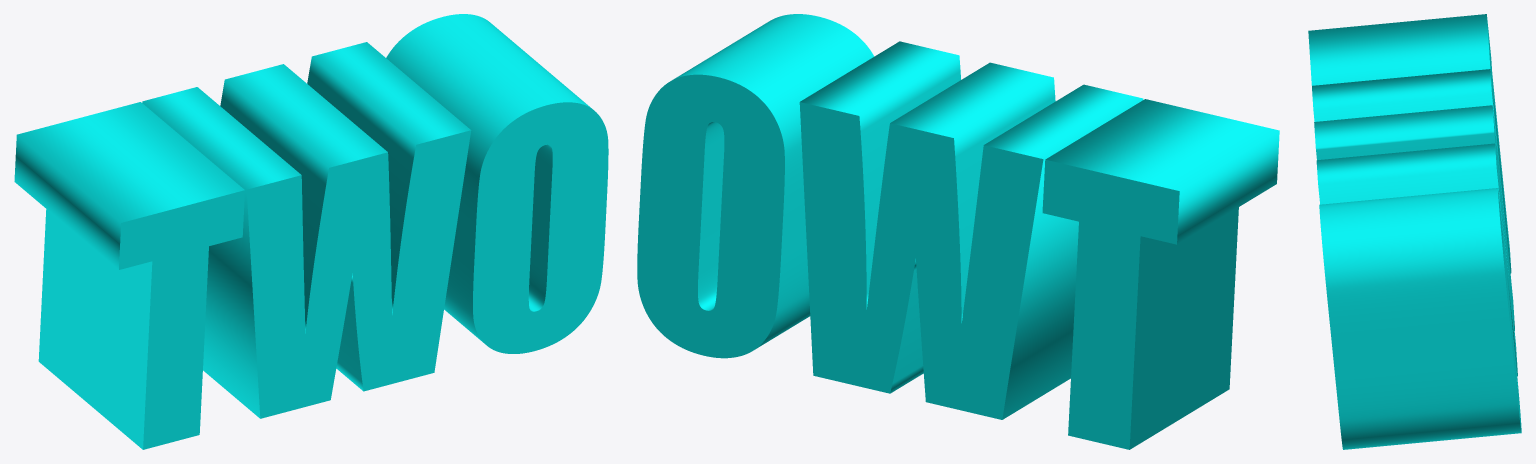
Rendered from 1_two-FINAL.glb.
The picture shows the model from 3 angles, left to right: view 1: azimuth 30°, elevation 25°; view 2: azimuth 150°, elevation 25°; view 3: azimuth 270°, elevation 25°; orthographic projection. The views are drawn at different scales.
Parts seen in each view (by area): view 1: 1; view 2: 1; view 3: 1.
Part boxes in pixels (bbox=[...]): 1: bbox=[14, 14, 608, 449]; 1: bbox=[637, 14, 1279, 449]; 1: bbox=[1308, 14, 1521, 449].
Size of the model in its own units: 0.9866 by 0.5089 by 0.4041.
